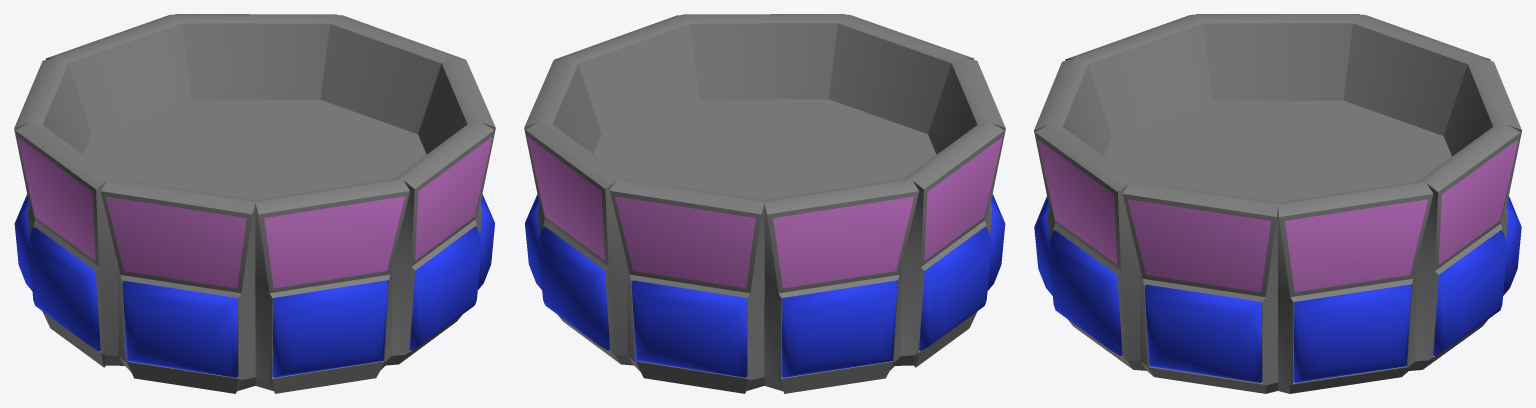
The model's file is Screens.fbx.
3 renders of one model, left to right at view 1: azimuth 30°, elevation 25°; view 2: azimuth 150°, elevation 25°; view 3: azimuth 270°, elevation 25°, orthographic.
Visible parts, largest first — view 1: Screens; view 2: Screens; view 3: Screens.
Part boxes in pixels (x1,y1,x2,y2): Screens: (14, 14, 495, 393); Screens: (524, 14, 1005, 393); Screens: (1034, 14, 1521, 393).
Bounding box in the file's own units: 1245 × 568 × 1245.
